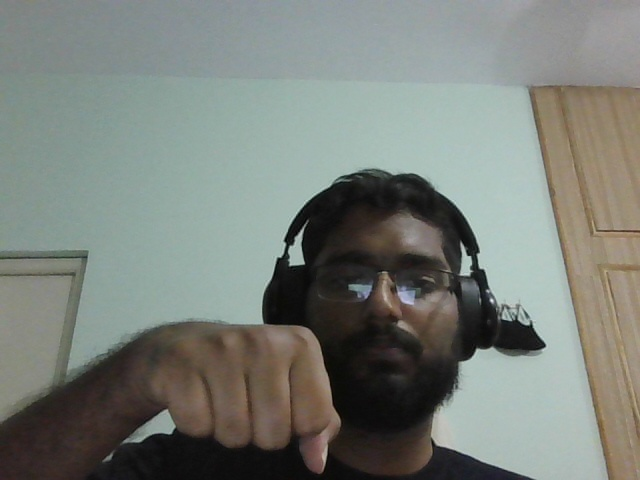Yes: (146, 290, 362, 476)
